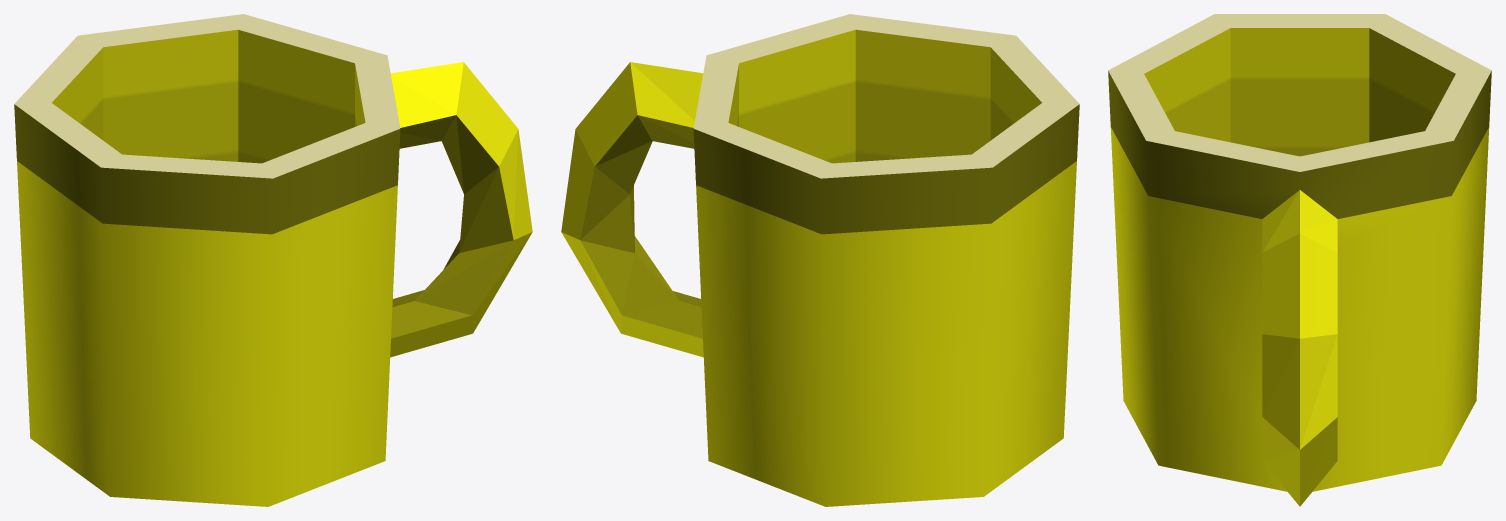
Rendered from Mug1.fbx.
The picture shows the model from 3 angles, left to right: view 1: azimuth 30°, elevation 25°; view 2: azimuth 150°, elevation 25°; view 3: azimuth 270°, elevation 25°; orthographic projection.
Visible parts, largest first — view 1: Mug1; view 2: Mug1; view 3: Mug1.
Boxes of the visible parts, x1=… form: Mug1: x1=14, y1=14, x2=532, y2=506; Mug1: x1=561, y1=14, x2=1079, y2=506; Mug1: x1=1108, y1=14, x2=1491, y2=506.
Size of the model in its own units: 15.2 by 10.24 by 10.82.
